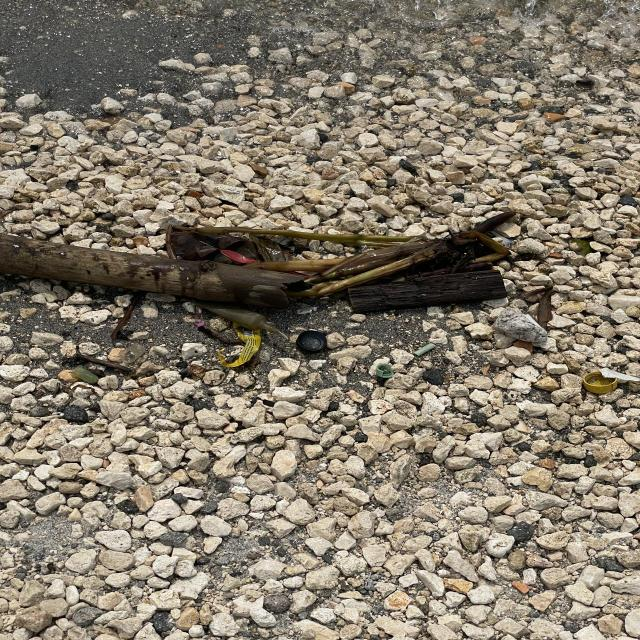plastic_waste: (217, 322, 263, 369), (584, 372, 619, 395), (296, 330, 328, 354)
